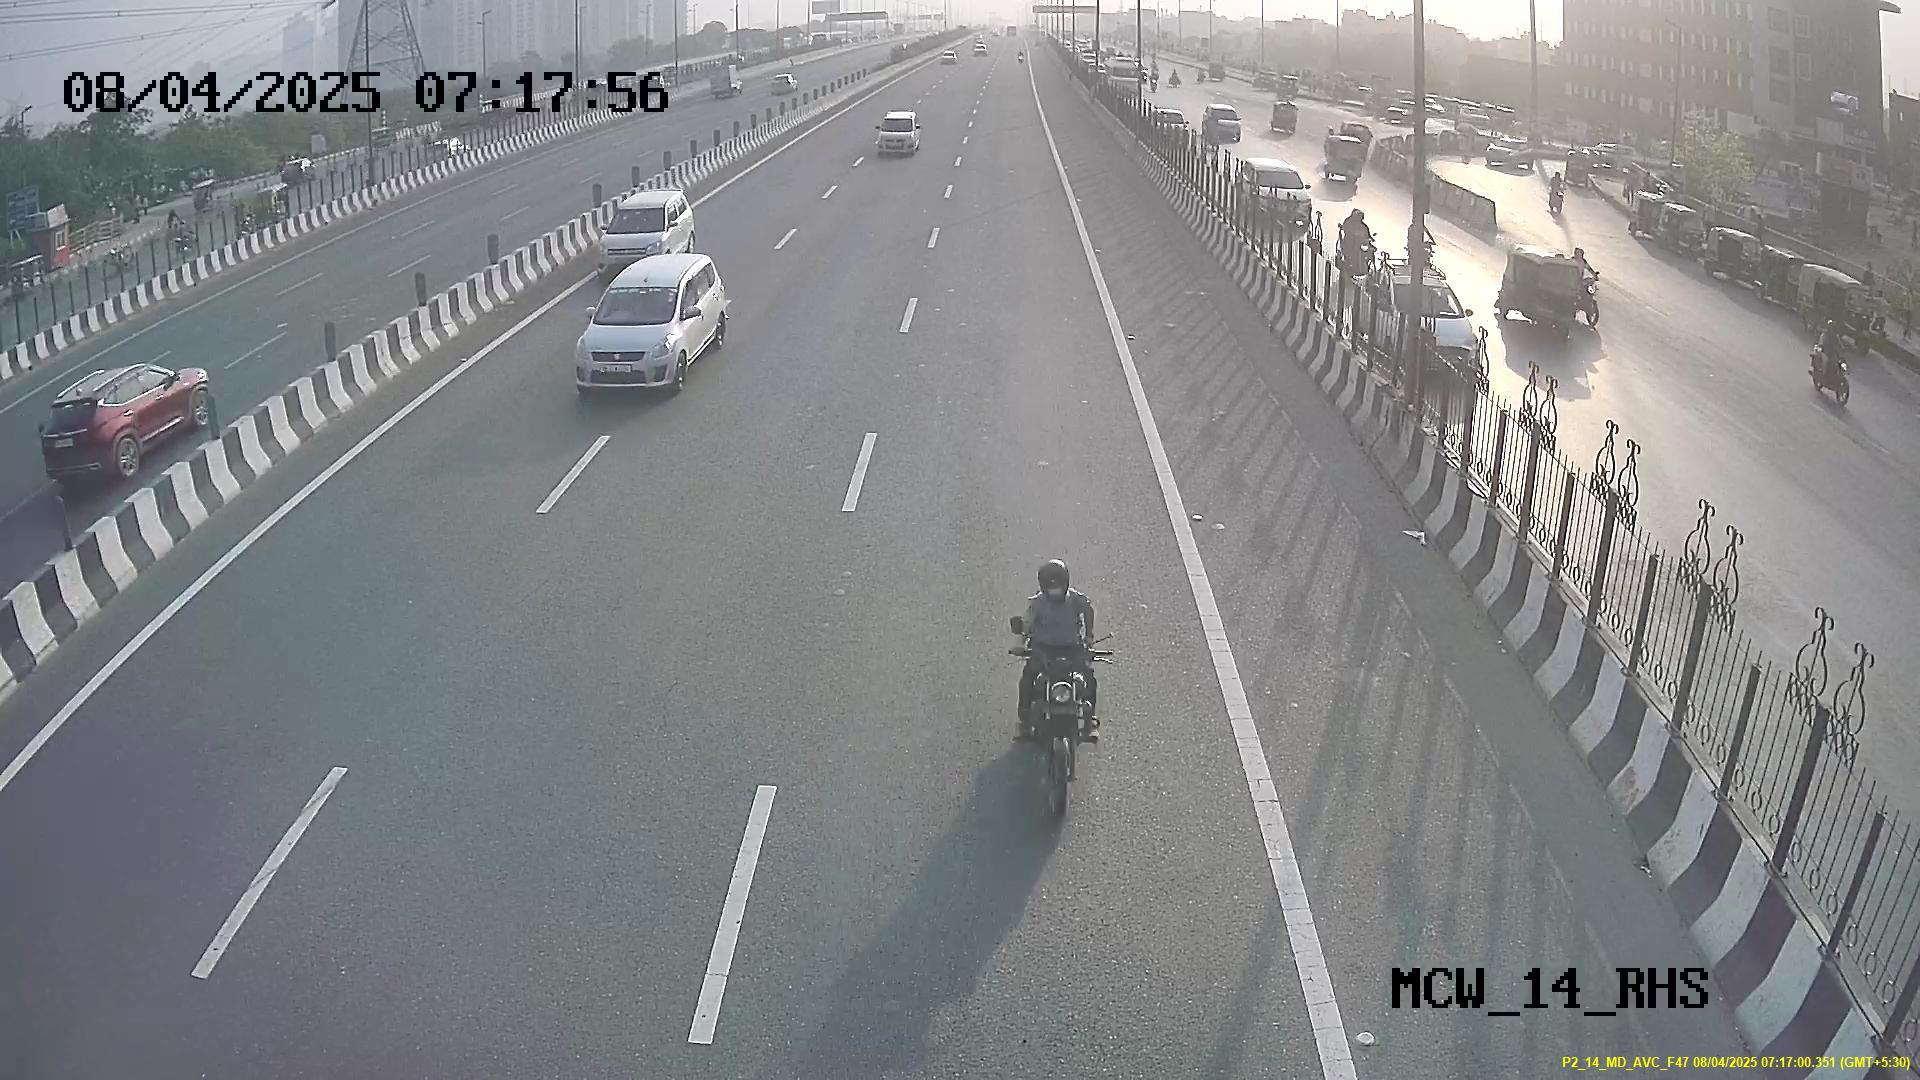bike: (994, 554, 1122, 818)
car: (576, 262, 708, 389)
